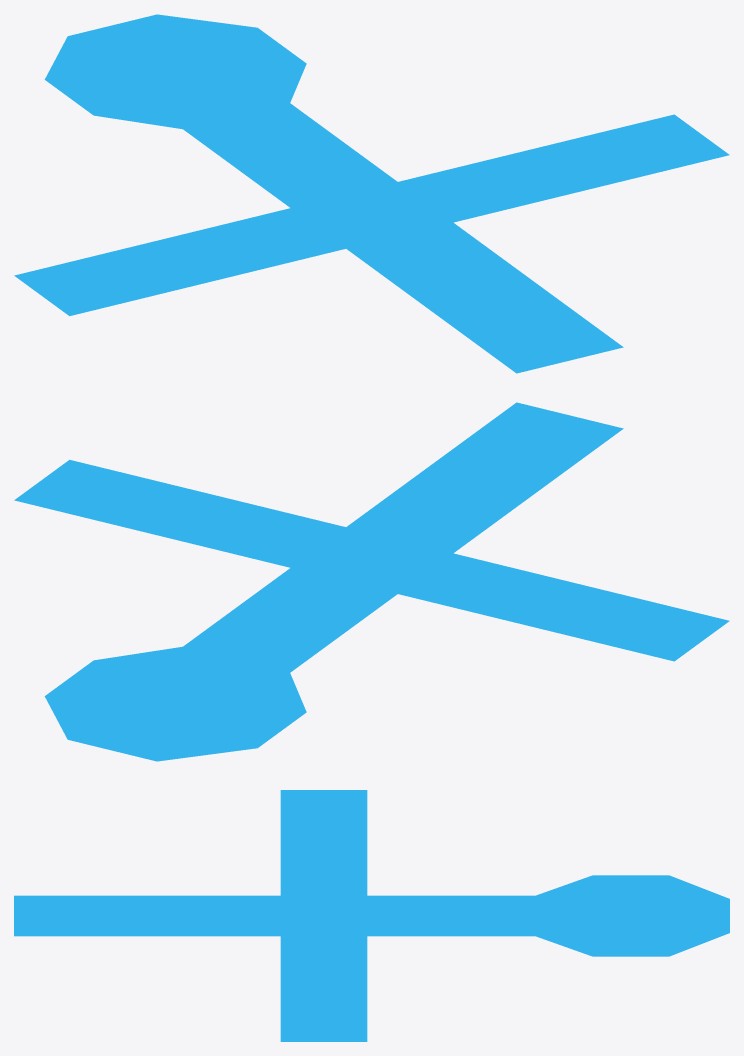
File: hieroglyph_001.glb
3 renders of one model, top to bottom at view 1: azimuth 30°, elevation 25°; view 2: azimuth 150°, elevation 25°; view 3: azimuth 270°, elevation 25°, orthographic. The views are drawn at different scales.
Visible parts, largest first — view 1: hieroglyph_001; view 2: hieroglyph_001; view 3: hieroglyph_001.
Boxes of the visible parts, x1=… form: hieroglyph_001: x1=14, y1=14, x2=729, y2=373; hieroglyph_001: x1=14, y1=402, x2=729, y2=761; hieroglyph_001: x1=14, y1=790, x2=729, y2=1041.
Size of the model in its own units: 0.5463 by 0 by 0.6561.
1 material, 1 textured.
